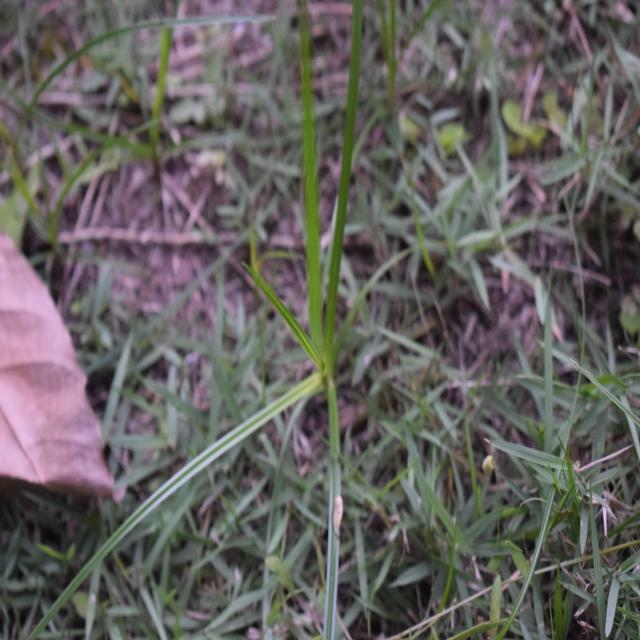sedge: (101, 87, 436, 592)
